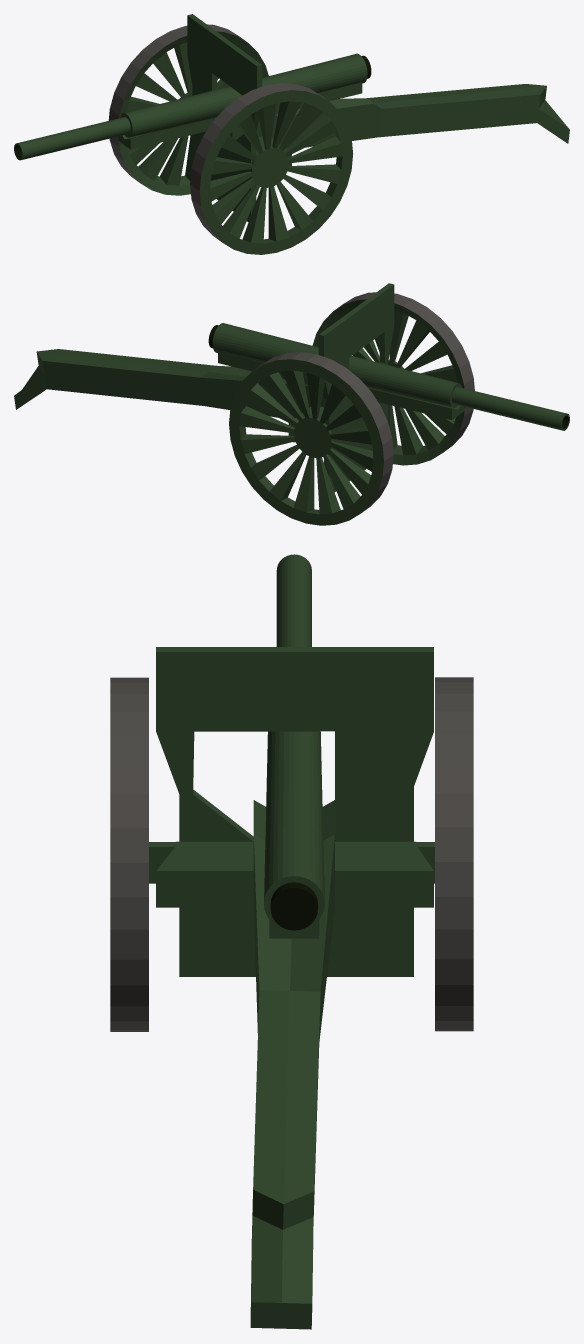
The model's file is ArmatPol.fbx.
3 renders of one model, top to bottom at view 1: azimuth 30°, elevation 25°; view 2: azimuth 150°, elevation 25°; view 3: azimuth 270°, elevation 25°, orthographic. The views are drawn at different scales.
Visible parts, largest first — view 1: ArmataPol; view 2: ArmataPol; view 3: ArmataPol.
Part boxes in pixels (x1,y1,x2,y2): ArmataPol: (14, 14, 569, 254); ArmataPol: (14, 283, 569, 525); ArmataPol: (110, 554, 473, 1329).
Bounding box in the file's own units: 742 × 236 × 216.
